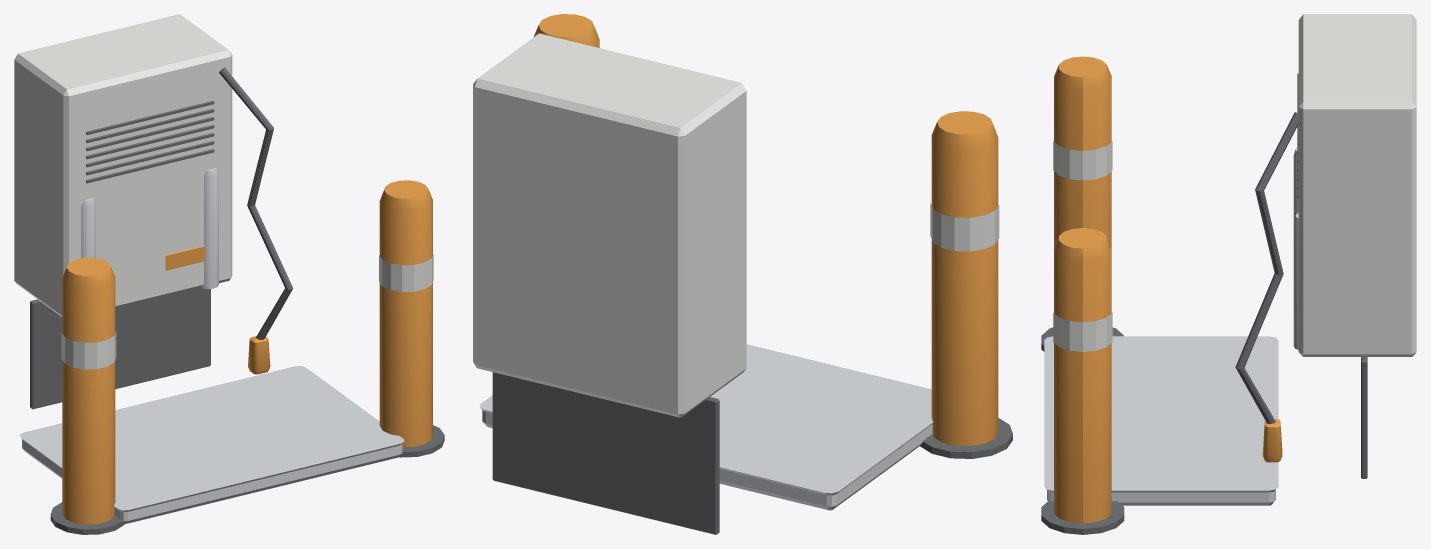
Rendered from forklift-charging-bay.glb.
3 renders of one model, left to right at view 1: azimuth 30°, elevation 25°; view 2: azimuth 150°, elevation 25°; view 3: azimuth 270°, elevation 25°, orthographic. The views are drawn at different scales.
Visible parts, largest first — view 1: forklift-charging-bay; view 2: forklift-charging-bay; view 3: forklift-charging-bay.
Boxes of the visible parts, x1,y1,x2,y2 form: forklift-charging-bay: [14, 14, 444, 534]; forklift-charging-bay: [473, 14, 1012, 534]; forklift-charging-bay: [1041, 14, 1416, 534].
Bounding box in the file's own units: 1.5 × 1.26 × 1.15.
